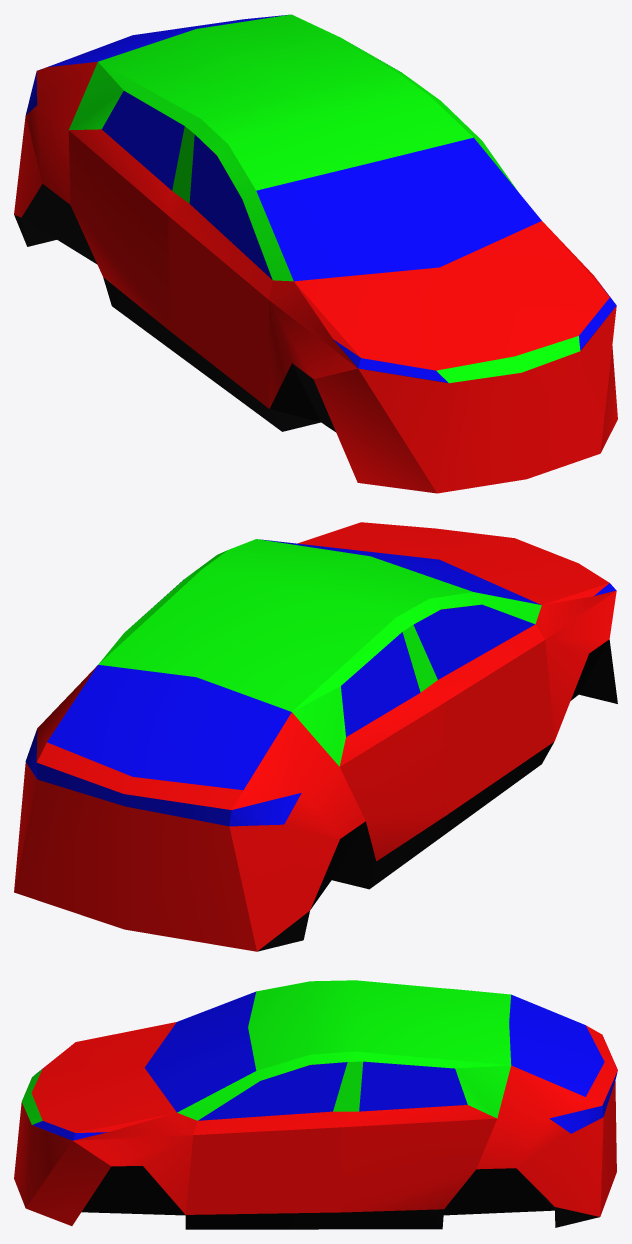
Rendered from crossover-ev-lod2.glb.
3 renders of one model, top to bottom at view 1: azimuth 30°, elevation 25°; view 2: azimuth 150°, elevation 25°; view 3: azimuth 270°, elevation 25°, orthographic. The views are drawn at different scales.
Parts seen in each view (by area): view 1: body; view 2: body; view 3: body.
Part boxes in pixels (box(x1,y1,x2,y2)): body: box(14, 14, 617, 493); body: box(14, 522, 617, 951); body: box(14, 980, 617, 1229).
Size of the model in its own units: 1.89 by 1.37 by 4.43.
1 material, 1 textured.
